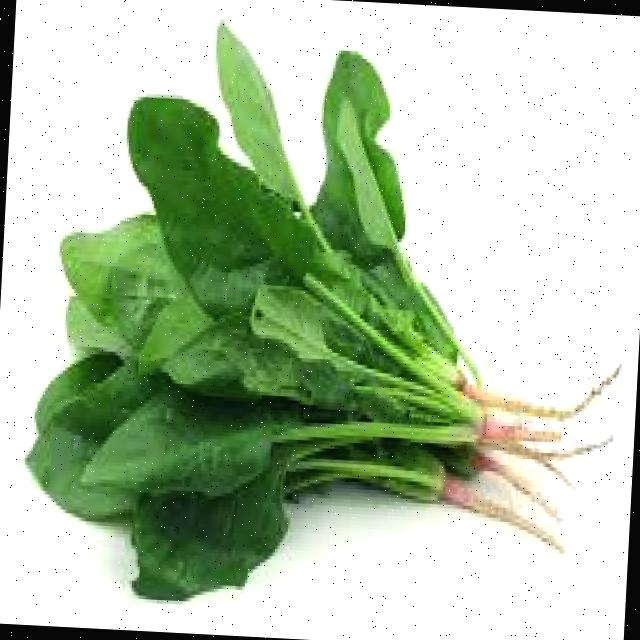spinach: (7, 7, 640, 639)
